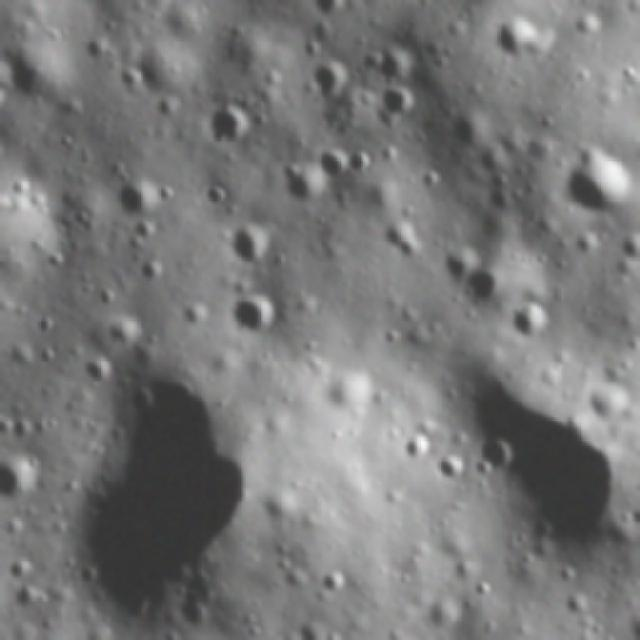crater: (76, 367, 267, 640), (459, 380, 626, 569), (557, 140, 640, 218), (0, 187, 51, 296), (486, 8, 552, 70), (226, 222, 289, 275), (224, 288, 284, 342), (0, 446, 49, 512), (282, 158, 338, 212), (201, 96, 254, 150), (377, 214, 432, 266), (468, 431, 530, 475), (368, 36, 420, 87), (458, 259, 507, 313), (110, 176, 165, 224), (305, 53, 350, 107), (372, 82, 422, 130), (584, 373, 630, 425), (314, 142, 360, 188), (99, 308, 147, 352), (450, 105, 492, 153), (431, 449, 472, 494), (513, 298, 552, 345), (571, 3, 612, 39), (0, 414, 43, 448), (550, 583, 590, 619), (266, 489, 308, 523), (76, 354, 116, 389), (475, 144, 516, 178), (402, 430, 438, 464), (306, 20, 340, 55), (10, 578, 44, 612), (80, 32, 112, 68), (200, 182, 238, 212), (321, 566, 352, 602), (0, 551, 34, 583), (282, 564, 315, 596), (6, 340, 40, 371), (414, 162, 448, 192), (478, 187, 513, 215), (180, 298, 211, 327), (138, 256, 167, 286), (91, 287, 124, 313), (157, 96, 186, 124), (24, 313, 59, 336), (298, 39, 330, 64), (115, 65, 142, 93), (382, 321, 408, 348), (72, 208, 96, 234), (0, 57, 12, 94), (473, 578, 495, 598), (0, 84, 11, 119), (626, 615, 640, 640)
